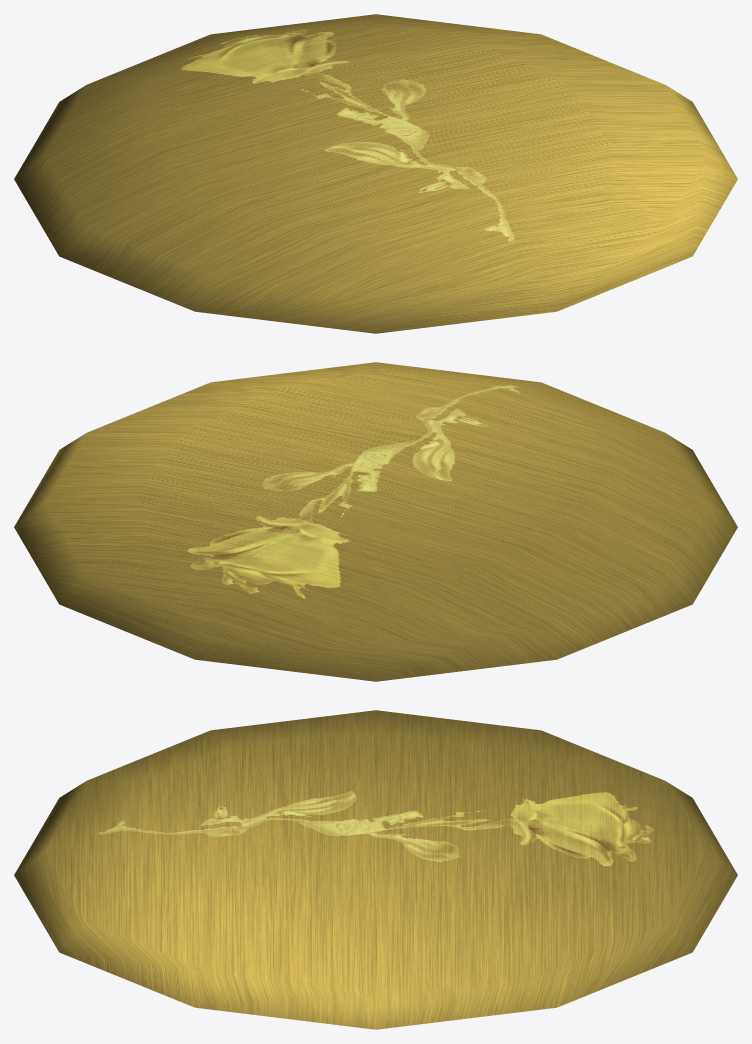
File: button.fbx
The picture shows the model from 3 angles, top to bottom: view 1: azimuth 30°, elevation 25°; view 2: azimuth 150°, elevation 25°; view 3: azimuth 270°, elevation 25°; orthographic projection.
Visible parts, largest first — view 1: button; view 2: button; view 3: button.
Boxes of the visible parts, x1=… form: button: x1=14, y1=14, x2=737, y2=333; button: x1=14, y1=362, x2=737, y2=681; button: x1=14, y1=710, x2=737, y2=1029.
Bounding box in the file's own units: 1.27 × 0.1217 × 1.26.
